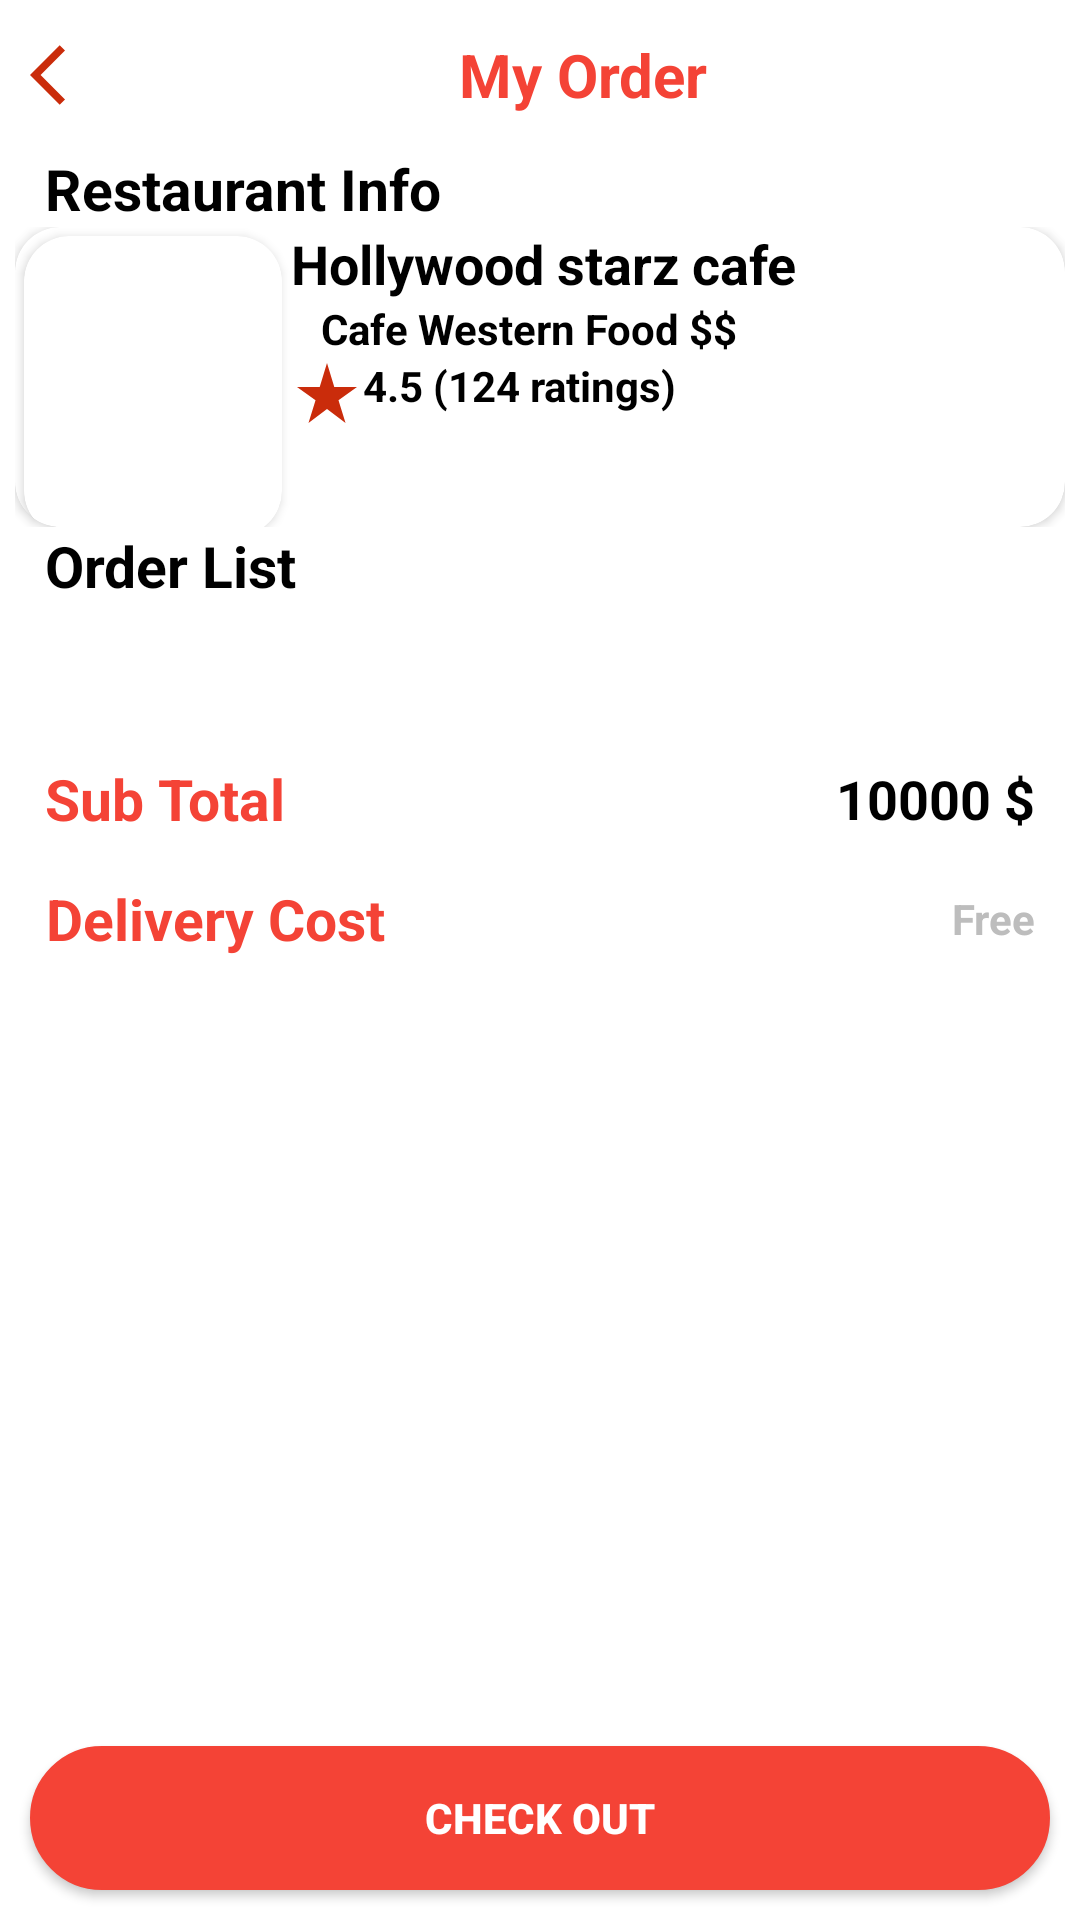

Icons on this 1080w x 1920h Android screen, each with the point to tap as (x,y):
arrow back: (47,75)
